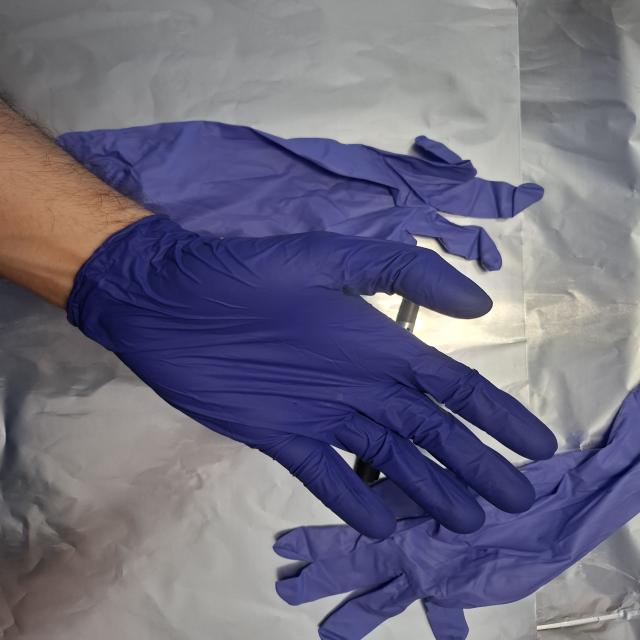glove_on: (61, 214, 562, 544)
